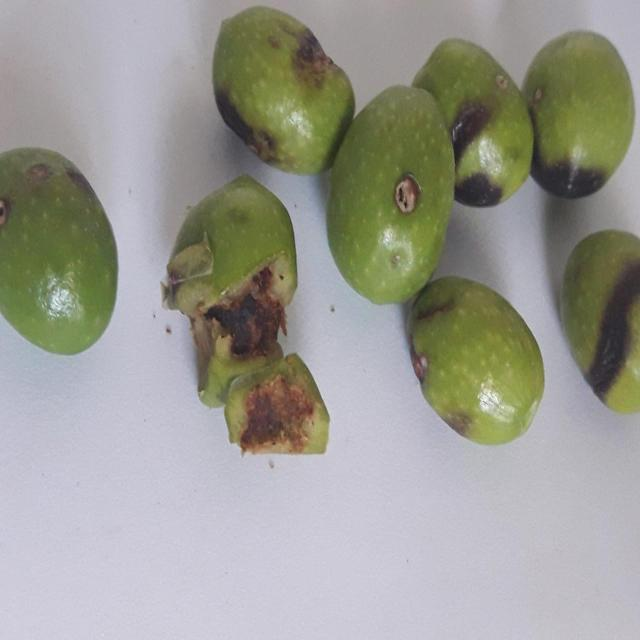Olive Fruit Fly: (162, 177, 298, 407), (327, 86, 455, 304), (0, 148, 118, 355), (212, 7, 354, 175), (408, 277, 544, 445), (412, 39, 533, 206), (522, 31, 634, 199), (561, 230, 640, 413), (224, 353, 329, 454)
